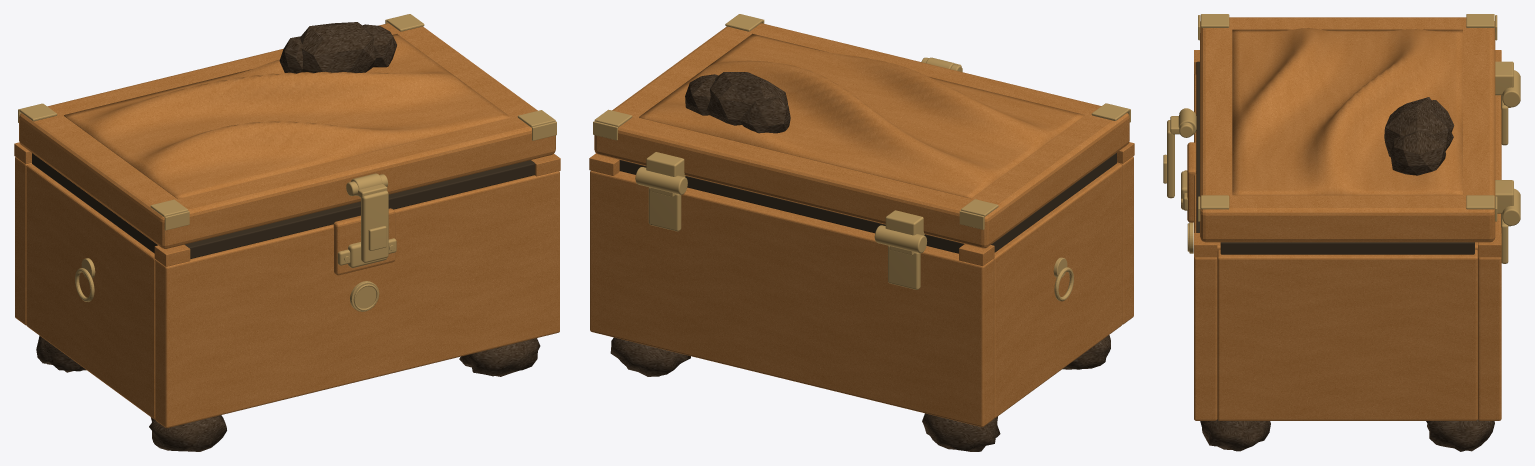
Rendered from niger.glb.
The picture shows the model from 3 angles, left to right: view 1: azimuth 30°, elevation 25°; view 2: azimuth 150°, elevation 25°; view 3: azimuth 270°, elevation 25°; orthographic projection.
Parts seen in each view (by area): view 1: Sandstone / long wall, Terrain / Tenere dunes, Lid / polished slab, Sandstone / end wall, Mineral seam / long, Terrain / Air outcrop 0, Granite foot, Sandstone / long wall.001, Granite foot.002, Latch / lifting hasp, Cedar / clasp seat, Mineral seam / side (+5 smaller); view 2: Sandstone / long wall.001, Terrain / Tenere dunes, Lid / polished slab, Sandstone / end wall, Mineral seam / long.001, Terrain / Air outcrop 0, Granite foot.001, Sandstone / long wall, Granite foot.003, Terrain / Air outcrop 2, Mineral seam / side, Hinge / fixed mount.001 (+9 smaller); view 3: Sandstone / end wall.001, Terrain / Tenere dunes, Lid / polished slab, Sandstone / long wall.001, Sandstone / long wall, Mineral seam / side.001, Terrain / Air outcrop 0, Terrain / Air outcrop 1, Granite foot.002, Granite foot.003, Cedar / clasp seat, Mineral seam / long (+11 smaller).
Boxes of the visible parts, box(x1,y1,x2,y2) form: Sandstone / long wall: box(155, 171, 559, 428); Terrain / Tenere dunes: box(64, 34, 510, 199); Lid / polished slab: box(19, 23, 555, 248); Sandstone / end wall: box(26, 164, 155, 419); Mineral seam / long: box(184, 160, 535, 258); Terrain / Air outcrop 0: box(300, 22, 375, 72); Granite foot: box(149, 415, 226, 451); Sandstone / long wall.001: box(15, 157, 31, 325); Granite foot.002: box(459, 338, 540, 376); Latch / lifting hasp: box(361, 190, 388, 262); Cedar / clasp seat: box(333, 208, 395, 275); Mineral seam / side: box(32, 153, 157, 253); Sandstone / long wall.001: box(590, 170, 993, 426); Terrain / Tenere dunes: box(639, 33, 1084, 198); Lid / polished slab: box(594, 23, 1129, 248); Sandstone / end wall: box(993, 163, 1122, 418); Mineral seam / long.001: box(619, 160, 964, 253); Terrain / Air outcrop 0: box(707, 72, 787, 125); Granite foot.001: box(922, 413, 1000, 451); Sandstone / long wall: box(1117, 156, 1133, 324); Granite foot.003: box(610, 337, 690, 376); Terrain / Air outcrop 2: box(739, 95, 790, 133); Mineral seam / side: box(991, 153, 1116, 252); Hinge / fixed mount.001: box(648, 187, 681, 231); Sandstone / end wall.001: box(1217, 249, 1477, 420); Terrain / Tenere dunes: box(1232, 28, 1462, 195); Lid / polished slab: box(1200, 17, 1495, 242); Sandstone / long wall.001: box(1478, 95, 1501, 420); Sandstone / long wall: box(1194, 74, 1217, 420); Mineral seam / side.001: box(1220, 242, 1474, 254); Terrain / Air outcrop 0: box(1384, 97, 1453, 157); Terrain / Air outcrop 1: box(1390, 131, 1445, 175); Granite foot.002: box(1200, 419, 1270, 451); Granite foot.003: box(1426, 419, 1494, 451); Cedar / clasp seat: box(1187, 142, 1196, 222); Mineral seam / long: box(1196, 61, 1199, 232).
Size of the model in its own units: 3.79 by 2.7 by 2.88.
Materials: 4 (2 with a texture image).
